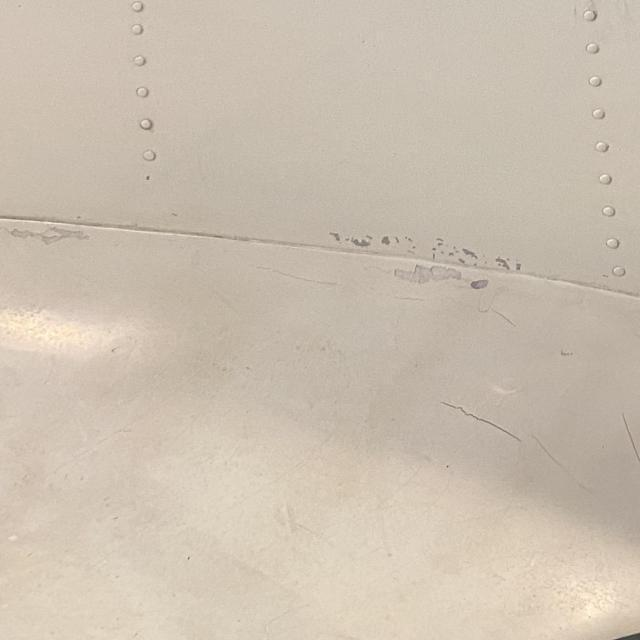Paint-off: (0, 221, 86, 251), (395, 263, 465, 283), (332, 234, 373, 248), (371, 234, 400, 249), (469, 278, 489, 291)
Scratch: (442, 402, 525, 445), (616, 413, 640, 477)
